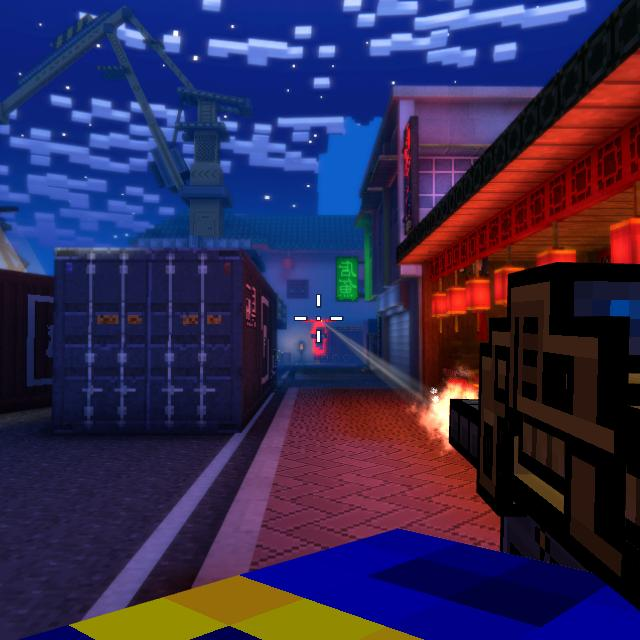Enemy: (311, 325, 327, 348)
